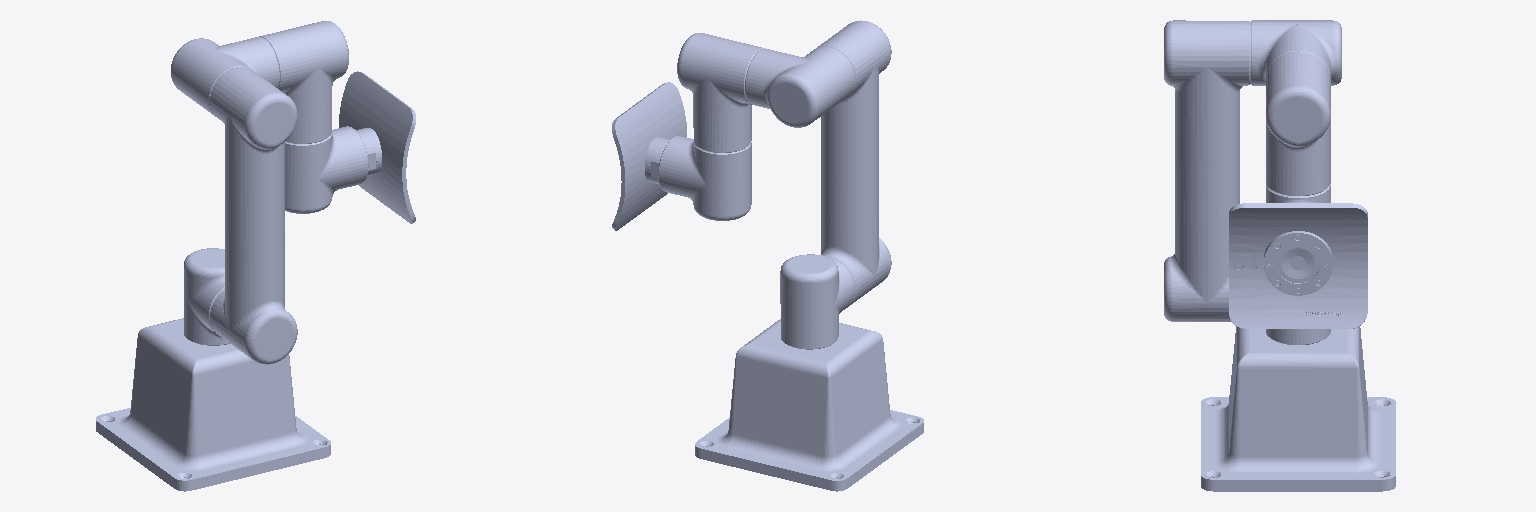
robot.urdf — urdf_robot_flo:
<?xml version="1.0" encoding="utf-8"?>
<!-- This URDF was automatically created by SolidWorks to URDF Exporter! Originally created by [author] ([email redacted]) 
     Commit Version: 1.6.0-4-g7f85cfe  Build Version: 1.6.7995.38578
     For more information, please see http://wiki.ros.org/sw_urdf_exporter -->
<robot
  name="urdf_robot_flo">
  <link
    name="base_link_flo">
    <inertial>
      <origin
        xyz="-6.2303E-07 1.2798E-06 0.072226"
        rpy="0 0 0" />
      <mass
        value="1.859" />
      <inertia
        ixx="0.011059"
        ixy="-1.2298E-07"
        ixz="-1.0999E-07"
        iyy="0.011058"
        iyz="1.8675E-07"
        izz="0.01313" />
    </inertial>
    <visual>
      <origin
        xyz="0 0 0"
        rpy="0 0 0" />
      <geometry>
        <mesh
          filename="package://urdf_robot_flo/meshes/base_link_flo.STL" />
      </geometry>
      <material
        name="">
        <color
          rgba="0.79216 0.81961 0.93333 1" />
      </material>
    </visual>
    <collision>
      <origin
        xyz="0 0 0"
        rpy="0 0 0" />
      <geometry>
        <mesh
          filename="package://urdf_robot_flo/meshes/base_link_flo.STL" />
      </geometry>
    </collision>
  </link>
  <link
    name="link_1_flo">
    <inertial>
      <origin
        xyz="1.4271E-08 -0.057735 -0.017263"
        rpy="0 0 0" />
      <mass
        value="0.32309" />
      <inertia
        ixx="0.00049732"
        ixy="6.7918E-11"
        ixz="-9.2494E-11"
        iyy="0.00037976"
        iyz="-4.0695E-05"
        izz="0.0004415" />
    </inertial>
    <visual>
      <origin
        xyz="0 0 0"
        rpy="0 0 0" />
      <geometry>
        <mesh
          filename="package://urdf_robot_flo/meshes/link_1_flo.STL" />
      </geometry>
      <material
        name="">
        <color
          rgba="0.79216 0.81961 0.93333 1" />
      </material>
    </visual>
    <collision>
      <origin
        xyz="0 0 0"
        rpy="0 0 0" />
      <geometry>
        <mesh
          filename="package://urdf_robot_flo/meshes/link_1_flo.STL" />
      </geometry>
    </collision>
  </link>
  <joint
    name="joint_1_flo"
    type="revolute">
    <origin
      xyz="0 0 0.15"
      rpy="-1.9468 0 3.1416" />
    <parent
      link="base_link_flo" />
    <child
      link="link_1_flo" />
    <axis
      xyz="0 0.93012 0.36725" />
    <limit
      lower="-3.1416"
      upper="3.1416"
      effort="0"
      velocity="0" />
  </joint>
  <link
    name="link_2_flo">
    <inertial>
      <origin
        xyz="1.0793E-08 0.052069 -0.14998"
        rpy="0 0 0" />
      <mass
        value="1.576" />
      <inertia
        ixx="0.017927"
        ixy="1.3734E-09"
        ixz="1.19E-09"
        iyy="0.017703"
        iyz="1.5043E-06"
        izz="0.0014816" />
    </inertial>
    <visual>
      <origin
        xyz="0 0 0"
        rpy="0 0 0" />
      <geometry>
        <mesh
          filename="package://urdf_robot_flo/meshes/link_2_flo.STL" />
      </geometry>
      <material
        name="">
        <color
          rgba="0.79216 0.81961 0.93333 1" />
      </material>
    </visual>
    <collision>
      <origin
        xyz="0 0 0"
        rpy="0 0 0" />
      <geometry>
        <mesh
          filename="package://urdf_robot_flo/meshes/link_2_flo.STL" />
      </geometry>
    </collision>
  </link>
  <joint
    name="joint_2_flo"
    type="revolute">
    <origin
      xyz="0 -0.07103 0.030818"
      rpy="1.1947 0 3.1416" />
    <parent
      link="link_1_flo" />
    <child
      link="link_2_flo" />
    <axis
      xyz="0 1 0" />
    <limit
      lower="-3.1416"
      upper="3.1416"
      effort="0"
      velocity="0" />
  </joint>
  <link
    name="link_3_flo">
    <inertial>
      <origin
        xyz="5.2044E-09 -0.058895 0.014691"
        rpy="0 0 0" />
      <mass
        value="0.41135" />
      <inertia
        ixx="0.00069097"
        ixy="6.2254E-11"
        ixz="2.363E-13"
        iyy="0.00055184"
        iyz="-2.4759E-05"
        izz="0.00052635" />
    </inertial>
    <visual>
      <origin
        xyz="0 0 0"
        rpy="0 0 0" />
      <geometry>
        <mesh
          filename="package://urdf_robot_flo/meshes/link_3_flo.STL" />
      </geometry>
      <material
        name="">
        <color
          rgba="0.79216 0.81961 0.93333 1" />
      </material>
    </visual>
    <collision>
      <origin
        xyz="0 0 0"
        rpy="0 0 0" />
      <geometry>
        <mesh
          filename="package://urdf_robot_flo/meshes/link_3_flo.STL" />
      </geometry>
    </collision>
  </link>
  <joint
    name="joint_3_flo"
    type="revolute">
    <origin
      xyz="0 0 -0.3"
      rpy="0 1.5708 0" />
    <parent
      link="link_2_flo" />
    <child
      link="link_3_flo" />
    <axis
      xyz="0 1 0" />
    <limit
      lower="-3.1416"
      upper="3.1416"
      effort="0"
      velocity="0" />
  </joint>
  <link
    name="link_4_flo">
    <inertial>
      <origin
        xyz="1.1592E-06 -0.057903 0.029233"
        rpy="0 0 0" />
      <mass
        value="0.54355" />
      <inertia
        ixx="0.0011348"
        ixy="6.5647E-11"
        ixz="5.5232E-11"
        iyy="0.00099434"
        iyz="-4.9821E-05"
        izz="0.00062037" />
    </inertial>
    <visual>
      <origin
        xyz="0 0 0"
        rpy="0 0 0" />
      <geometry>
        <mesh
          filename="package://urdf_robot_flo/meshes/link_4_flo.STL" />
      </geometry>
      <material
        name="">
        <color
          rgba="0.79216 0.81961 0.93333 1" />
      </material>
    </visual>
    <collision>
      <origin
        xyz="0 0 0"
        rpy="0 0 0" />
      <geometry>
        <mesh
          filename="package://urdf_robot_flo/meshes/link_4_flo.STL" />
      </geometry>
    </collision>
  </link>
  <joint
    name="joint_4_flo"
    type="revolute">
    <origin
      xyz="0 -0.05475 0.075"
      rpy="-1.5708 0 1.5708" />
    <parent
      link="link_3_flo" />
    <child
      link="link_4_flo" />
    <axis
      xyz="0 1 0" />
    <limit
      lower="-3.1416"
      upper="3.1416"
      effort="0"
      velocity="0" />
  </joint>
  <link
    name="link_5_flo">
    <inertial>
      <origin
        xyz="-1.2442E-06 -0.054708 0.01555"
        rpy="0 0 0" />
      <mass
        value="0.38783" />
      <inertia
        ixx="0.00063618"
        ixy="6.286E-11"
        ixz="2.3496E-11"
        iyy="0.00052928"
        iyz="-3.1119E-05"
        izz="0.00047736" />
    </inertial>
    <visual>
      <origin
        xyz="0 0 0"
        rpy="0 0 0" />
      <geometry>
        <mesh
          filename="package://urdf_robot_flo/meshes/link_5_flo.STL" />
      </geometry>
      <material
        name="">
        <color
          rgba="0.79216 0.81961 0.93333 1" />
      </material>
    </visual>
    <collision>
      <origin
        xyz="0 0 0"
        rpy="0 0 0" />
      <geometry>
        <mesh
          filename="package://urdf_robot_flo/meshes/link_5_flo.STL" />
      </geometry>
    </collision>
  </link>
  <joint
    name="joint_5_flo"
    type="revolute">
    <origin
      xyz="0 -0.054749 0.105"
      rpy="-1.5708 0 -3.1416" />
    <parent
      link="link_4_flo" />
    <child
      link="link_5_flo" />
    <axis
      xyz="0 1 0" />
    <limit
      lower="-3.1416"
      upper="3.1416"
      effort="0"
      velocity="0" />
  </joint>
  <link
    name="link_6_flo">
    <inertial>
      <origin
        xyz="1.5167E-05 4.219E-05 0.028173"
        rpy="0 0 0" />
      <mass
        value="0.2641" />
      <inertia
        ixx="0.00038852"
        ixy="-3.0807E-07"
        ixz="5.6453E-08"
        iyy="0.00039016"
        iyz="-1.4393E-07"
        izz="0.00071229" />
    </inertial>
    <visual>
      <origin
        xyz="0 0 0"
        rpy="0 0 0" />
      <geometry>
        <mesh
          filename="package://urdf_robot_flo/meshes/link_6_flo.STL" />
      </geometry>
      <material
        name="">
        <color
          rgba="0.79216 0.81961 0.93333 1" />
      </material>
    </visual>
    <collision>
      <origin
        xyz="0 0 0"
        rpy="0 0 0" />
      <geometry>
        <mesh
          filename="package://urdf_robot_flo/meshes/link_6_flo.STL" />
      </geometry>
    </collision>
  </link>
  <joint
    name="joint_6_flo"
    type="revolute">
    <origin
      xyz="0 -0.049499 0.075"
      rpy="0 0 0" />
    <parent
      link="link_5_flo" />
    <child
      link="link_6_flo" />
    <axis
      xyz="0 0 1" />
    <limit
      lower="-3.1416"
      upper="3.1416"
      effort="0"
      velocity="0" />
  </joint>
</robot>

--- What the picture shows (computed from the rendered views, not written in the file) ---
The picture shows the robot from 3 angles, left to right: view 1: azimuth 30°, elevation 25°; view 2: azimuth 150°, elevation 25°; view 3: azimuth 270°, elevation 25°; orthographic projection.
Robot: urdf_robot_flo — 7 links, 6 joints (6 revolute); root link base_link_flo; default pose: all joints at 0.
Links seen in each view (by area): view 1: base_link_flo, link_2_flo, link_6_flo, link_4_flo, link_5_flo, link_3_flo, link_1_flo; view 2: base_link_flo, link_2_flo, link_4_flo, link_3_flo, link_6_flo, link_1_flo, link_5_flo; view 3: base_link_flo, link_2_flo, link_6_flo, link_4_flo, link_3_flo, link_1_flo, link_5_flo.
Boxes of the visible links, box(x1,y1,x2,y2) form: base_link_flo: box(96, 318, 330, 491); link_2_flo: box(210, 67, 297, 364); link_6_flo: box(339, 71, 415, 223); link_4_flo: box(259, 21, 348, 143); link_5_flo: box(285, 126, 368, 213); link_3_flo: box(171, 37, 279, 116); link_1_flo: box(184, 248, 229, 345); base_link_flo: box(695, 319, 923, 491); link_2_flo: box(817, 20, 891, 304); link_4_flo: box(677, 33, 765, 152); link_3_flo: box(745, 47, 854, 127); link_6_flo: box(612, 82, 686, 230); link_1_flo: box(780, 254, 854, 349); link_5_flo: box(658, 136, 751, 220); base_link_flo: box(1201, 326, 1395, 491); link_2_flo: box(1164, 20, 1250, 321); link_6_flo: box(1229, 203, 1367, 328); link_4_flo: box(1266, 52, 1330, 195); link_3_flo: box(1251, 20, 1341, 85); link_1_flo: box(1266, 329, 1330, 344); link_5_flo: box(1266, 184, 1330, 202).
Size in the robot's own frame: 0.3673 by 0.267 by 0.5427 metres.
7 mesh visuals loaded from 7 distinct referenced files (7 binary STL).